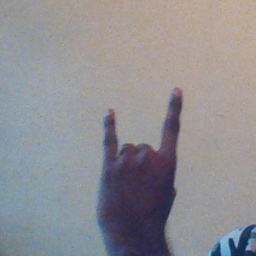V: (94, 84, 194, 238)
